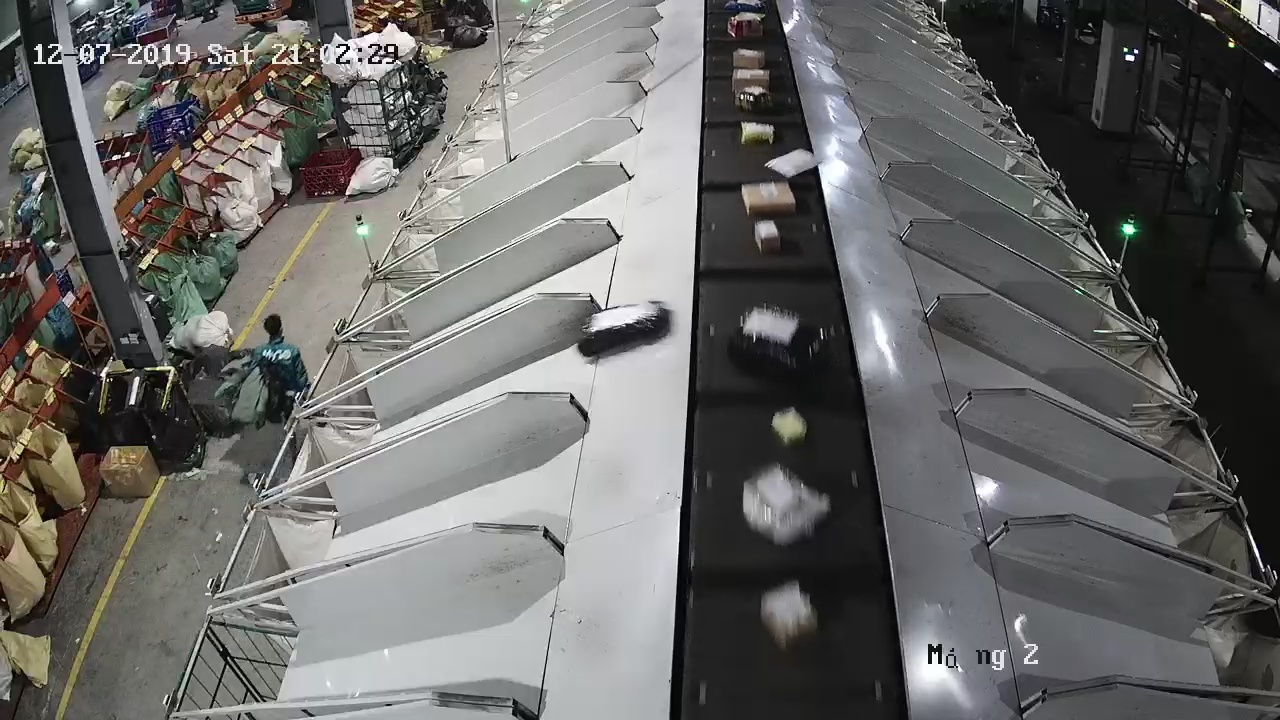parcel: (576, 300, 669, 358), (763, 146, 824, 180), (770, 404, 808, 448)
